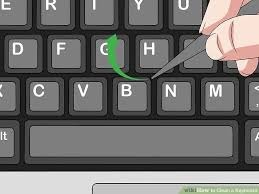keyboard: (0, 1, 259, 166)
